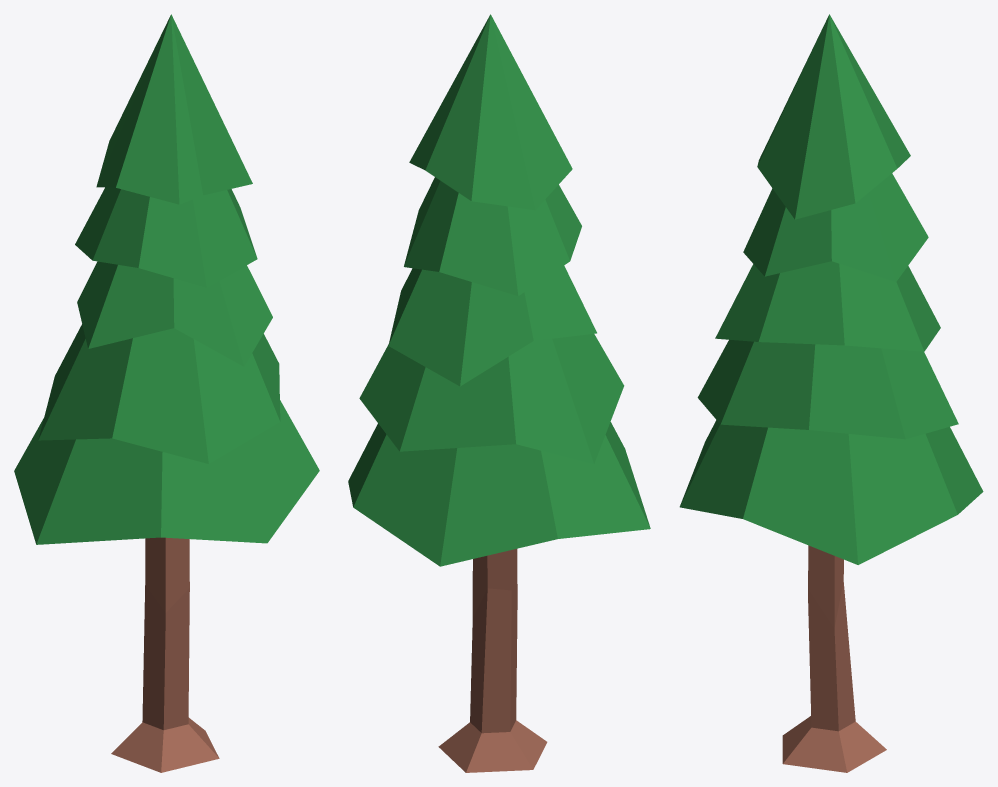
The model's file is Tree5.fbx.
The picture shows the model from 3 angles, left to right: view 1: azimuth 30°, elevation 25°; view 2: azimuth 150°, elevation 25°; view 3: azimuth 270°, elevation 25°; orthographic projection.
Parts seen in each view (by area): view 1: Cone.004, Cone.003, Cone, Cone.002, Cone.001, Cylinder; view 2: Cone.004, Cone.003, Cone, Cone.002, Cone.001, Cylinder; view 3: Cone.004, Cone.003, Cone, Cone.002, Cone.001, Cylinder.
Part boxes in pixels (left/top/right/bottom): Cone.004: left=14, top=400, right=319, bottom=544; Cone.003: left=38, top=324, right=280, bottom=463; Cone: left=96, top=14, right=252, bottom=204; Cone.002: left=77, top=261, right=272, bottom=366; Cone.001: left=75, top=187, right=257, bottom=287; Cylinder: left=111, top=537, right=219, bottom=772; Cone.004: left=348, top=422, right=650, bottom=566; Cone.003: left=359, top=334, right=624, bottom=464; Cone: left=409, top=14, right=572, bottom=210; Cone.002: left=388, top=265, right=596, bottom=386; Cone.001: left=404, top=177, right=581, bottom=296; Cylinder: left=438, top=549, right=547, bottom=772; Cone.004: left=679, top=420, right=983, bottom=564; Cone.003: left=697, top=339, right=958, bottom=439; Cone: left=757, top=14, right=910, bottom=219; Cone.002: left=715, top=261, right=940, bottom=351; Cone.001: left=743, top=173, right=928, bottom=281; Cylinder: left=782, top=545, right=886, bottom=772.
Bounding box in the file's own units: 227 × 578 × 216.
